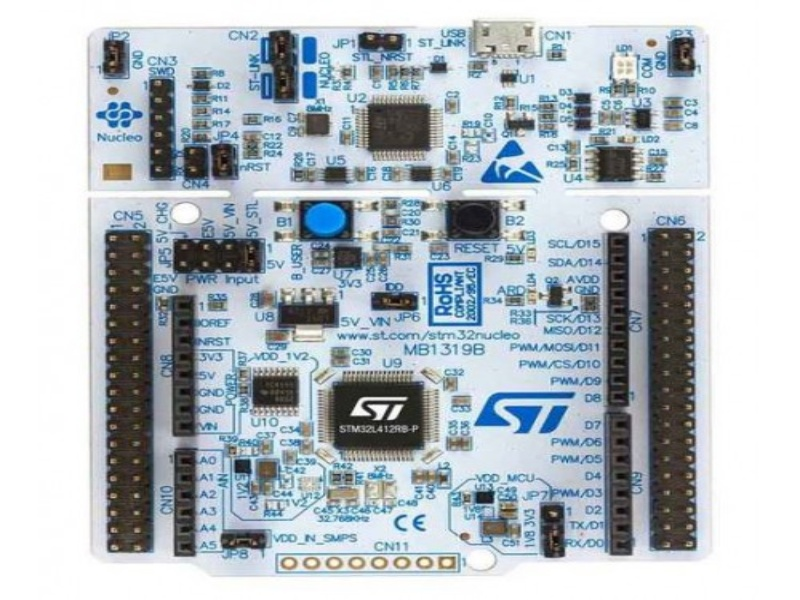stmnucleo: (80, 34, 697, 570)
